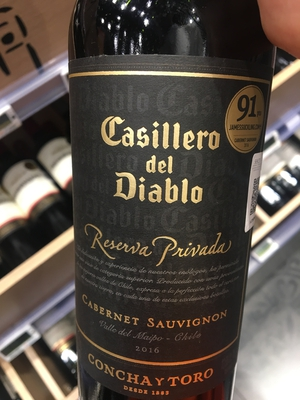casillero del diablo reserva privada cabernet sauvignon: (61, 4, 278, 400)
